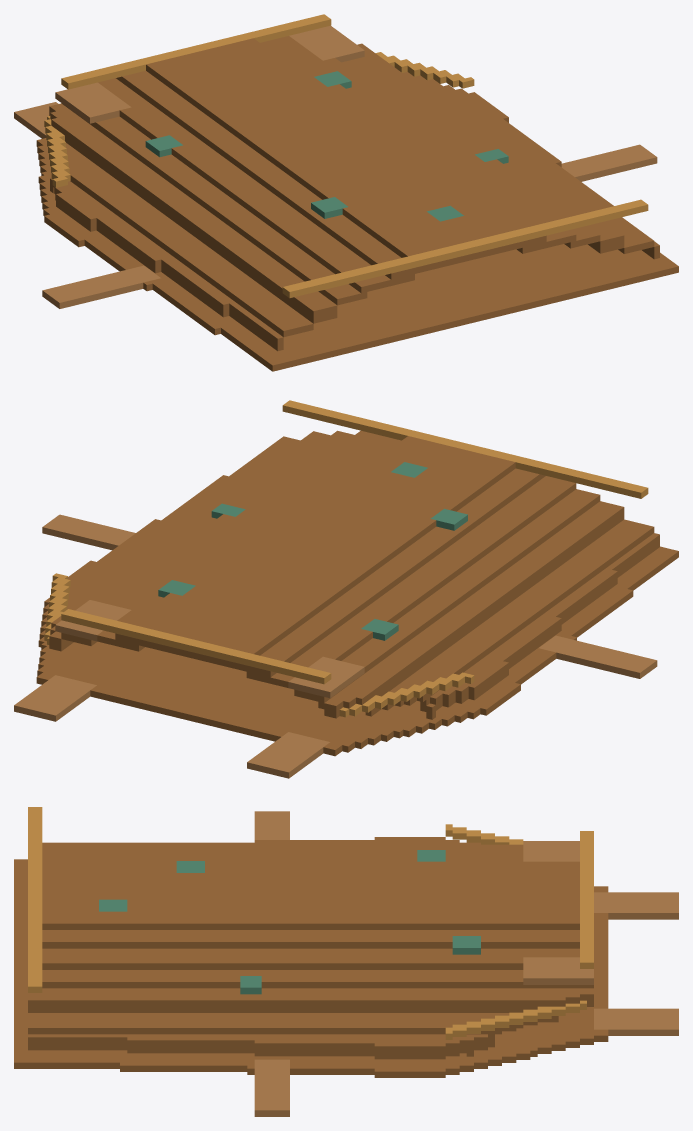
The model's file is cuirass_bronze.glb.
3 renders of one model, top to bottom at view 1: azimuth 30°, elevation 25°; view 2: azimuth 150°, elevation 25°; view 3: azimuth 270°, elevation 25°, orthographic. The views are drawn at different scales.
Parts seen in each view (by area): view 1: cuirass_bronze:compound; view 2: cuirass_bronze:compound; view 3: cuirass_bronze:compound.
Boxes of the visible parts, x1=… form: cuirass_bronze:compound: x1=14, y1=14, x2=678, y2=371; cuirass_bronze:compound: x1=14, y1=400, x2=678, y2=778; cuirass_bronze:compound: x1=14, y1=807, x2=678, y2=1116.
Size of the model in its own units: 0.6 by 0.066 by 0.564.
